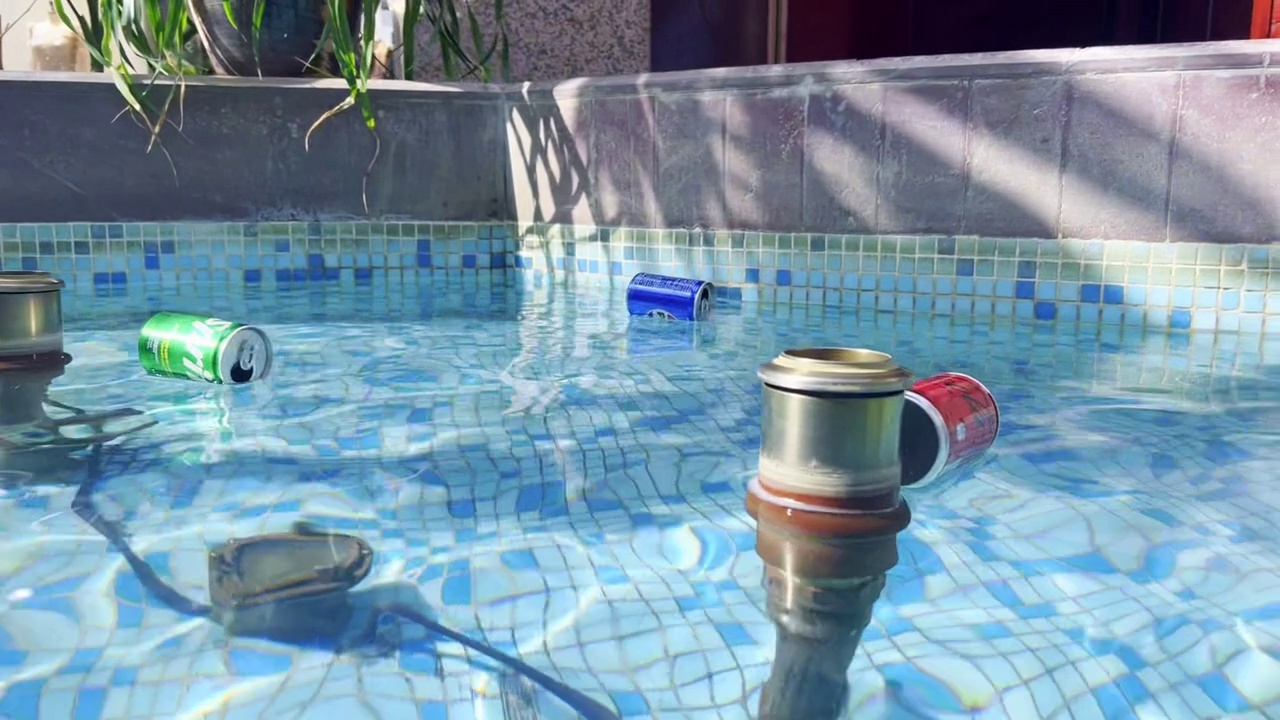debris: (864, 365, 1012, 495), (122, 299, 273, 394), (619, 267, 719, 329)
